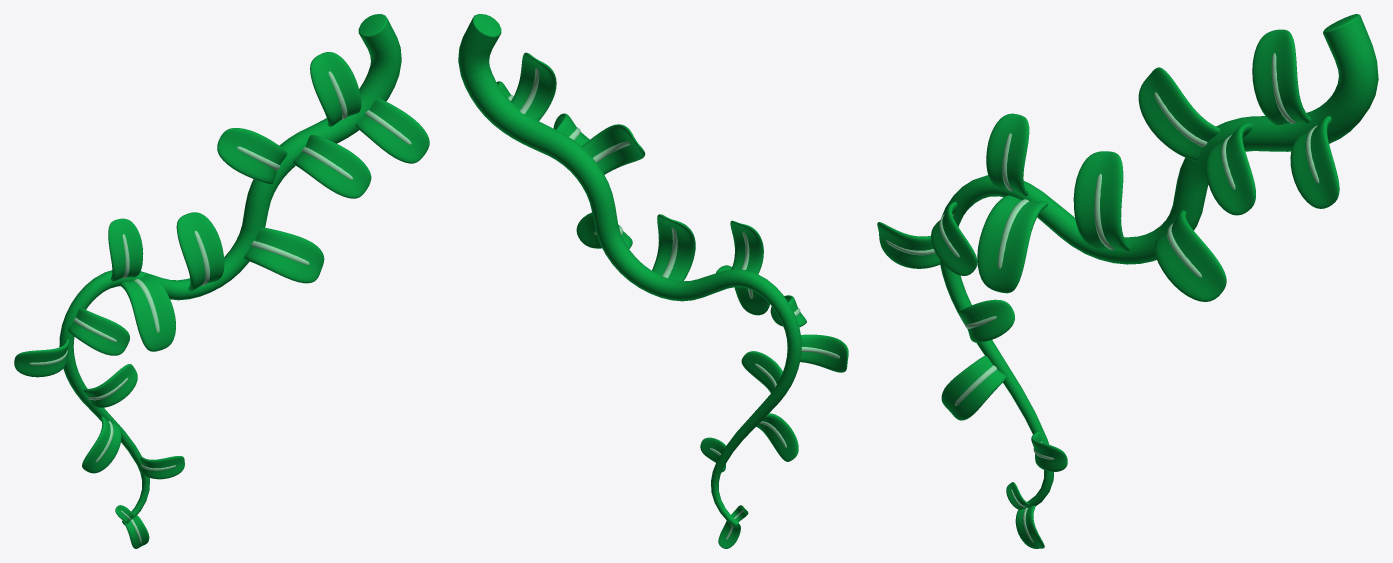
The model's file is City_14_Ivy_1.glb.
The picture shows the model from 3 angles, left to right: view 1: azimuth 30°, elevation 25°; view 2: azimuth 150°, elevation 25°; view 3: azimuth 330°, elevation 25°; orthographic projection. The views are drawn at different scales.
Visible parts, largest first — view 1: City_14_Ivy_1; view 2: City_14_Ivy_1; view 3: City_14_Ivy_1.
Part boxes in pixels (<box>): City_14_Ivy_1: <box>14,14,429,548</box>; City_14_Ivy_1: <box>458,14,848,548</box>; City_14_Ivy_1: <box>877,14,1378,548</box>.
Size of the model in its own units: 3.67 by 4.29 by 0.7004.
1 material, 1 textured.
